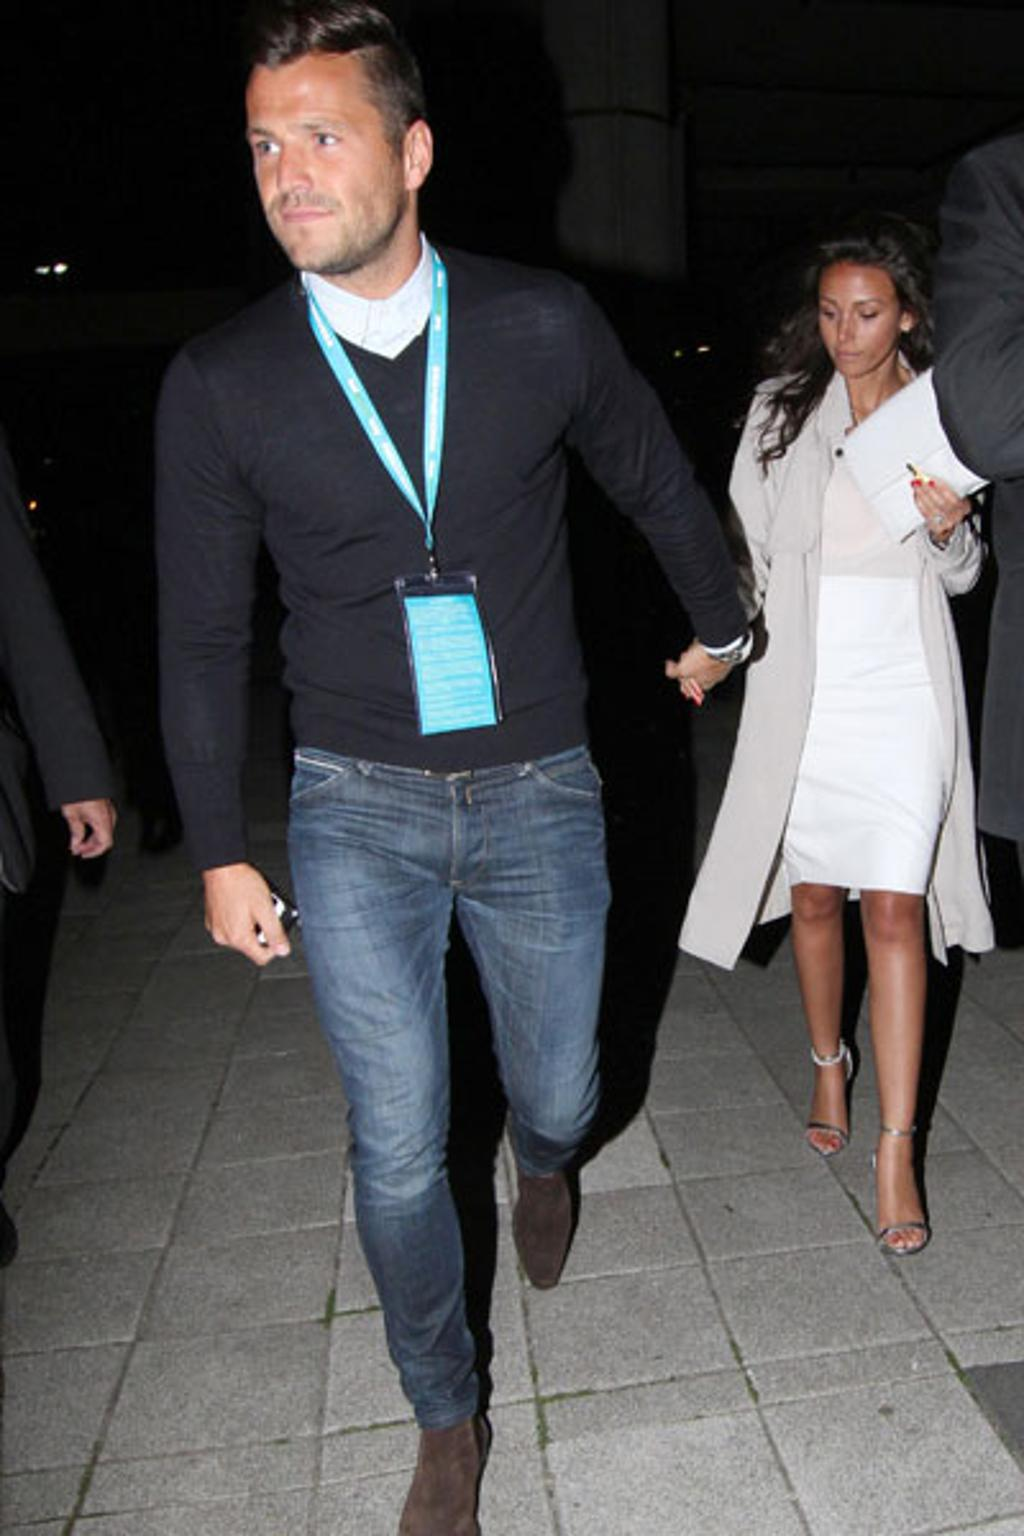face: (240, 51, 405, 276), (811, 258, 907, 378)
